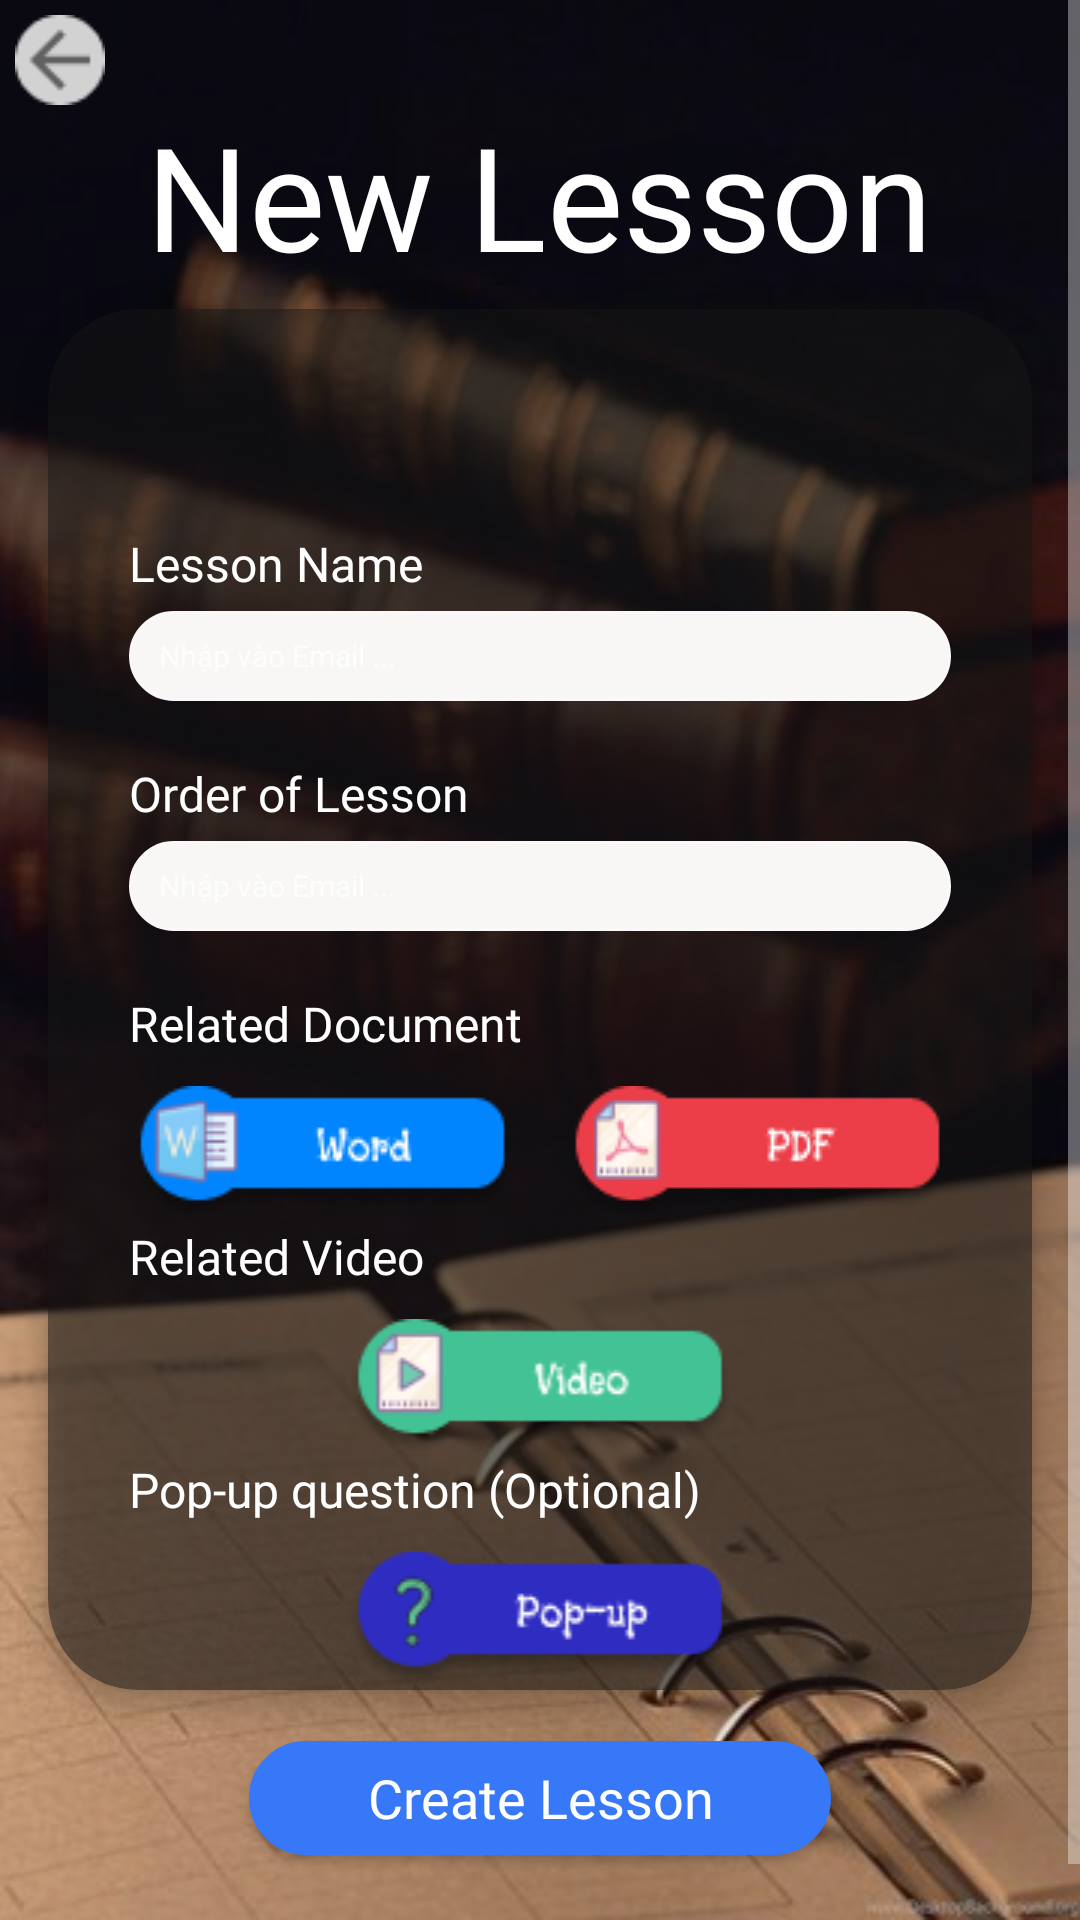

Icon bounding boxes for this 1080px×1920px phone screenshot, format (x1, y1, x2, y2):
back: (15, 15, 105, 105)
